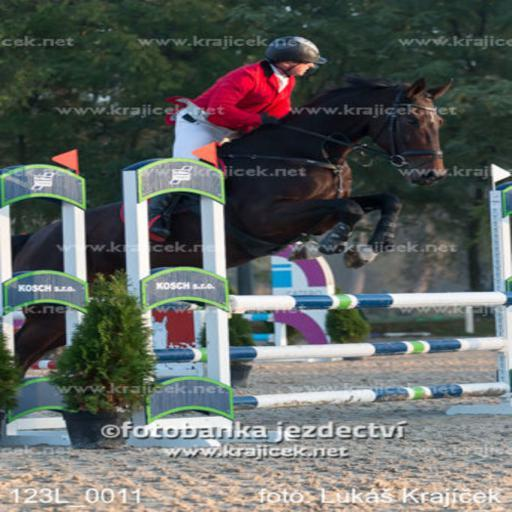Horse: (8, 74, 455, 386)
